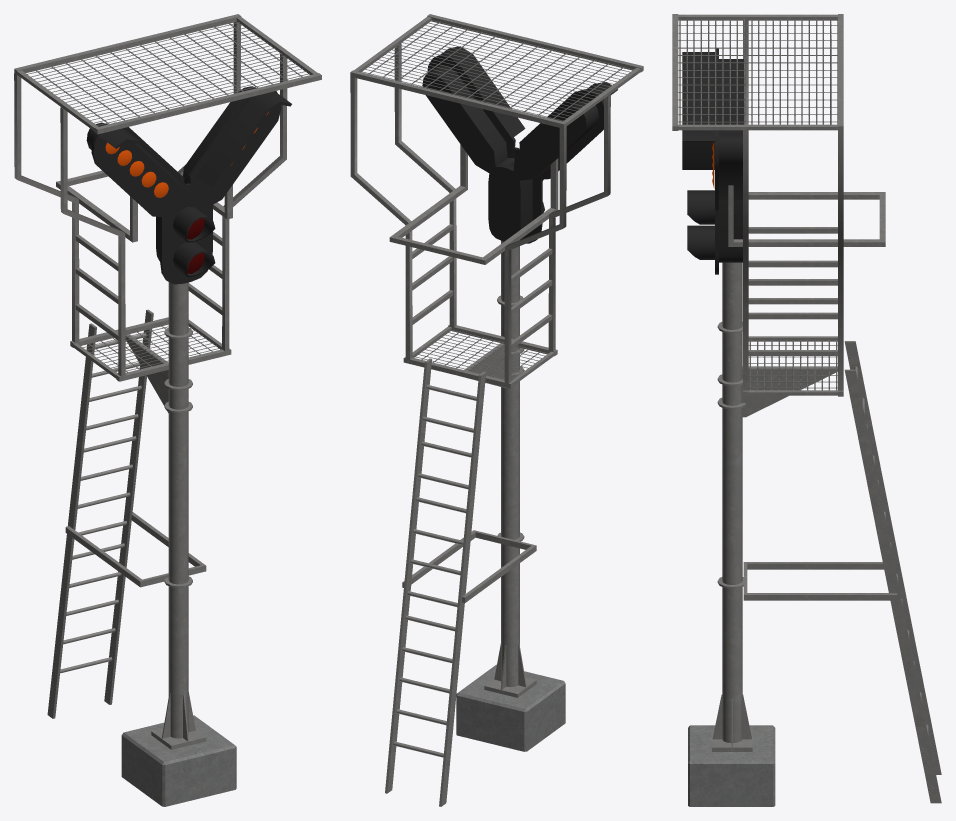
The model's file is rail_signalgantry_sml_F.fbx.
The picture shows the model from 3 angles, left to right: view 1: azimuth 30°, elevation 25°; view 2: azimuth 150°, elevation 25°; view 3: azimuth 270°, elevation 25°; orthographic projection. The views are drawn at different scales.
Visible parts, largest first — view 1: rail_signalgantry_sml_F; view 2: rail_signalgantry_sml_F; view 3: rail_signalgantry_sml_F.
Boxes of the visible parts, <box> form: rail_signalgantry_sml_F: <box>14,14,321,806</box>; rail_signalgantry_sml_F: <box>350,14,643,806</box>; rail_signalgantry_sml_F: <box>672,14,941,806</box>.
Size of the model in its own units: 2.15 by 6.41 by 2.17.
